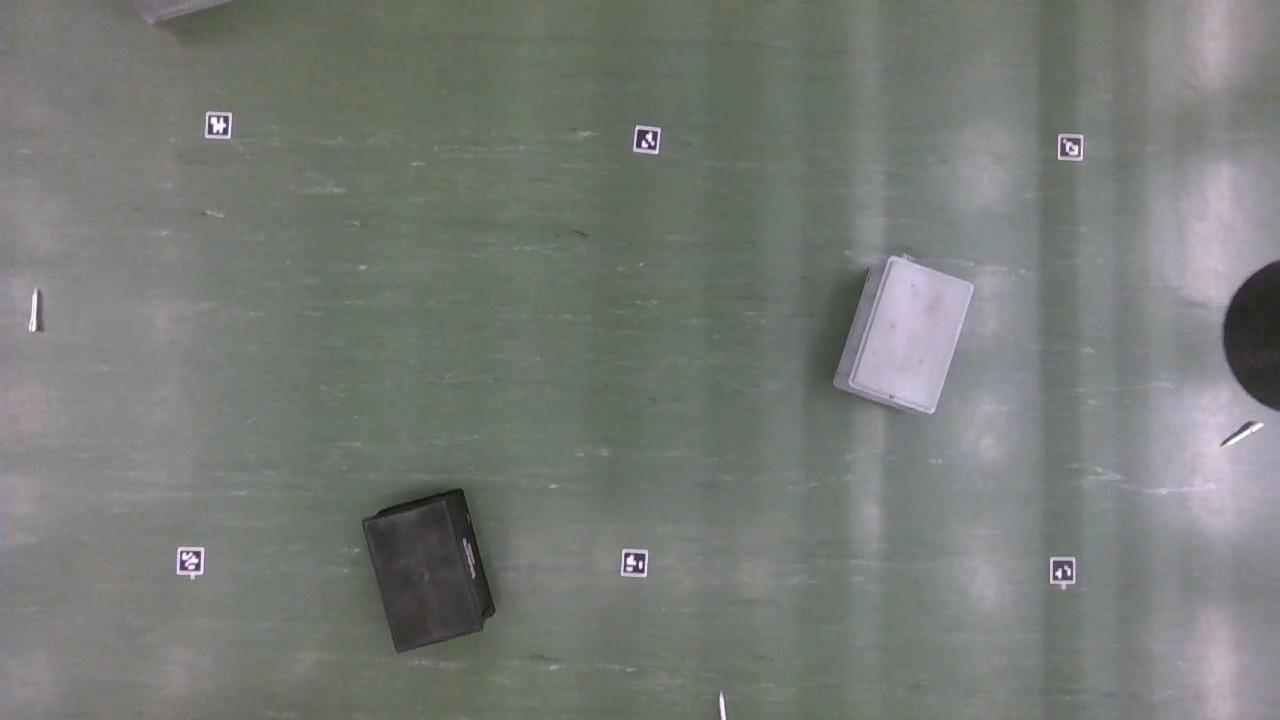probes: (1222, 422, 1259, 448), (30, 291, 40, 334), (718, 695, 726, 720)
rako: (833, 257, 973, 418), (362, 491, 495, 656)
